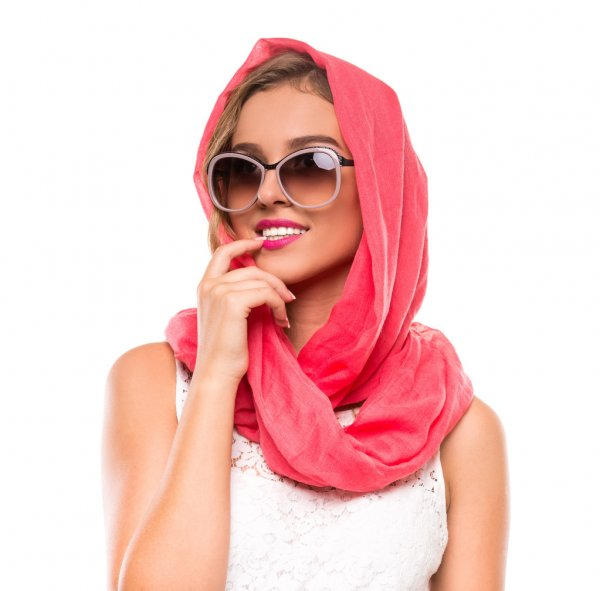glasses: (196, 139, 370, 223)
